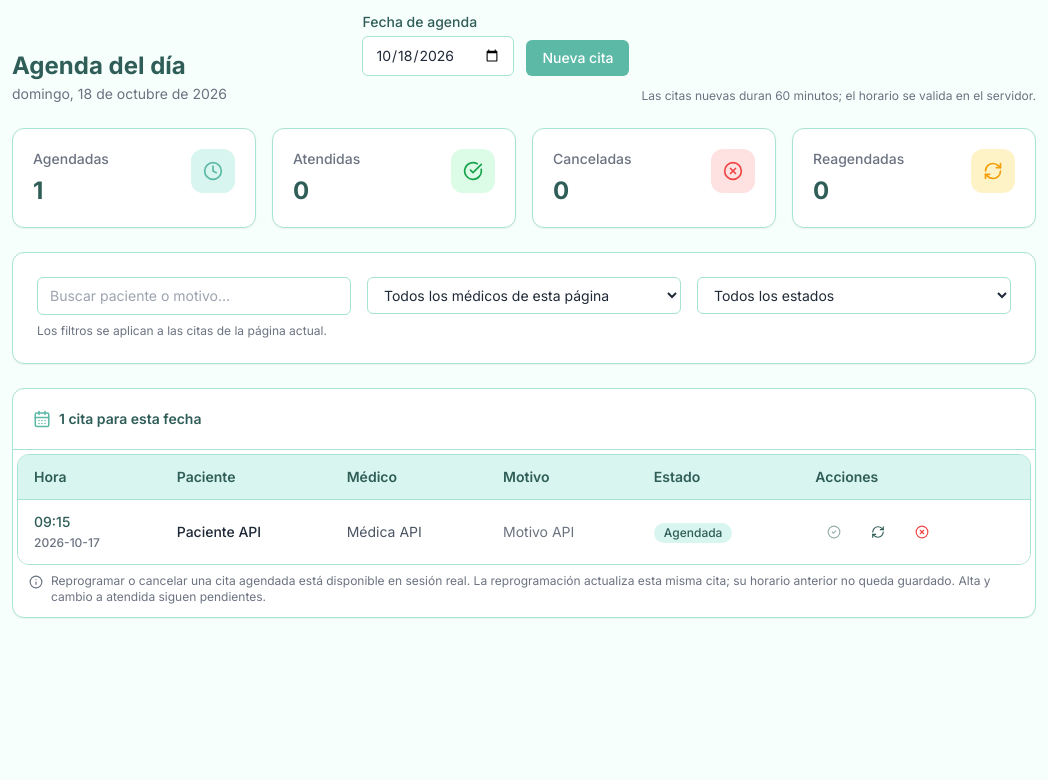
Scenario: AgendaPage de recepción › conserva la búsqueda y los filtros de estado sobre la página cargada
The width and height of the screenshot is (1048, 780).
Expected: the text "Paciente API" is shown, [161,500,331,564]
Select "Cancelada" in the dropdown named "Filtrar por estado" at (854, 296), box [697,277,1011,314]
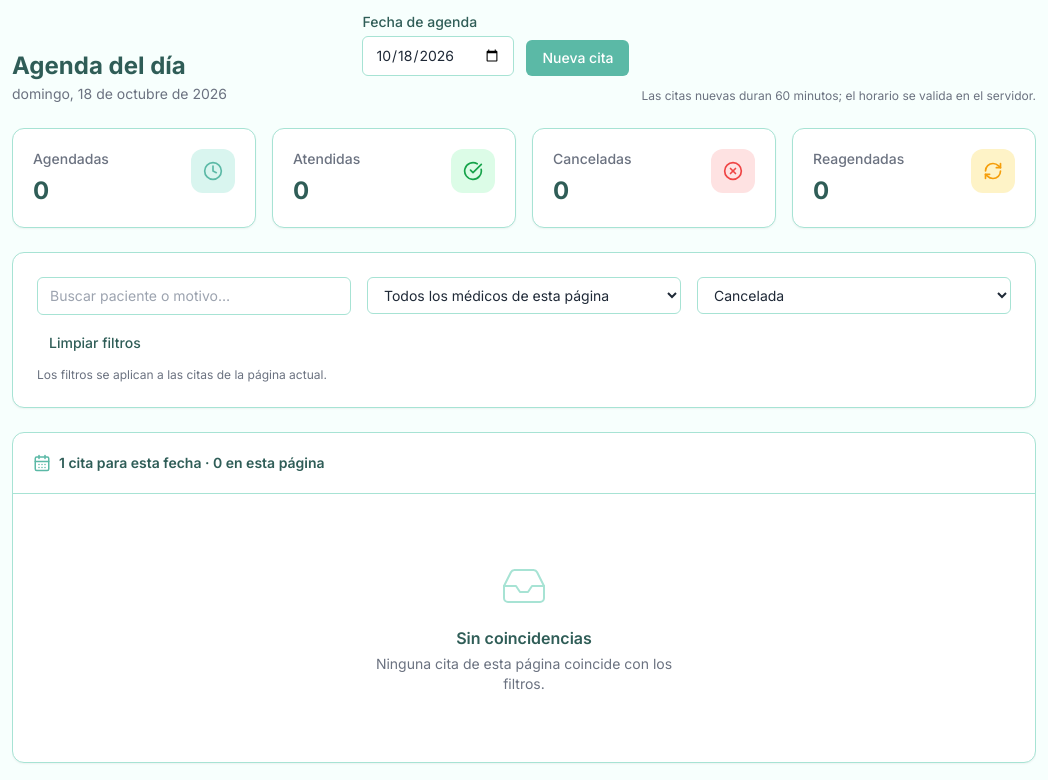
Expected: the text "Paciente API" is gone
Expected: the heading "Sin coincidencias" is shown, [456,626,592,650]
